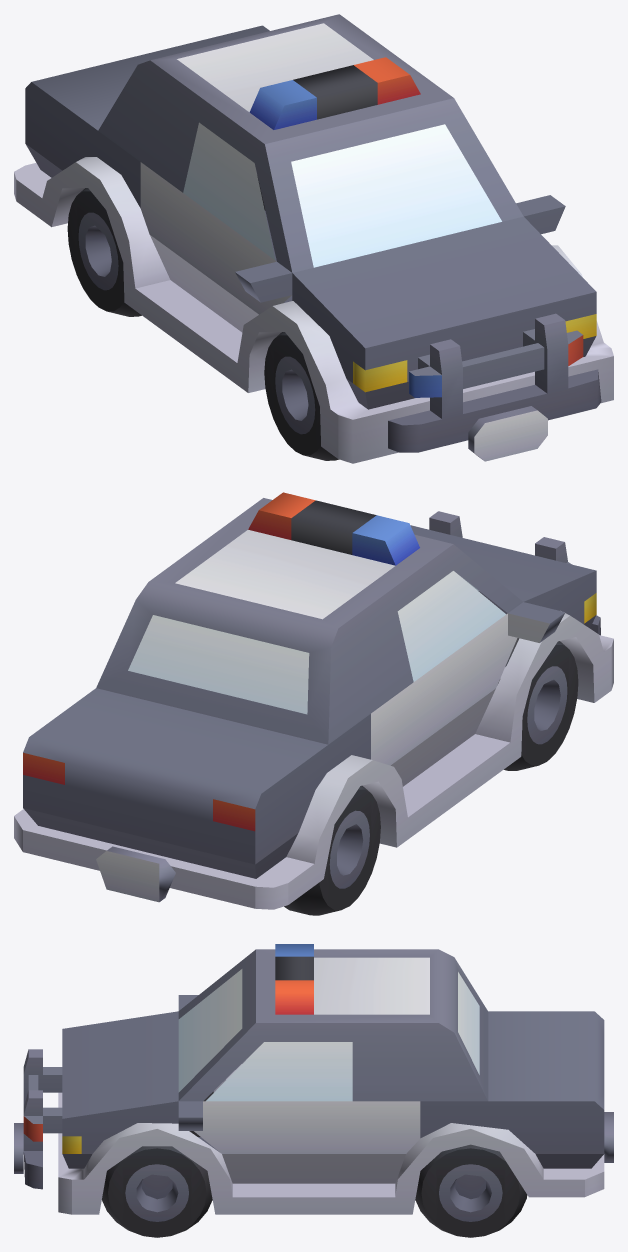
The model's file is 032_car-kit_police_card.glb.
3 views of the same model, one above another, from view 1: azimuth 30°, elevation 25°; view 2: azimuth 150°, elevation 25°; view 3: azimuth 270°, elevation 25° (orthographic). The views are drawn at different scales.
Parts seen in each view (by area): view 1: body, grill, wheel-back-right, wheel-front-right; view 2: body, wheel-back-right, wheel-front-right, grill; view 3: body, wheel-front-left, wheel-back-left, grill.
Boxes of the visible parts, left/top/right/bottom form: body: left=14, top=14, right=613, bottom=463; grill: left=388, top=313, right=601, bottom=461; wheel-back-right: left=67, top=188, right=141, bottom=316; wheel-front-right: left=264, top=332, right=339, bottom=460; body: left=14, top=492, right=613, bottom=909; wheel-back-right: left=284, top=785, right=380, bottom=915; wheel-front-right: left=498, top=638, right=578, bottom=770; grill: left=429, top=511, right=600, bottom=635; body: left=58, top=944, right=613, bottom=1214; wheel-front-left: left=102, top=1146, right=212, bottom=1237; wheel-back-left: left=415, top=1144, right=527, bottom=1237; grill: left=14, top=1049, right=62, bottom=1189.
Bounding box in the file's own units: 1.5 × 1.3 × 3.1.
Materials: 1 (1 with a texture image).
